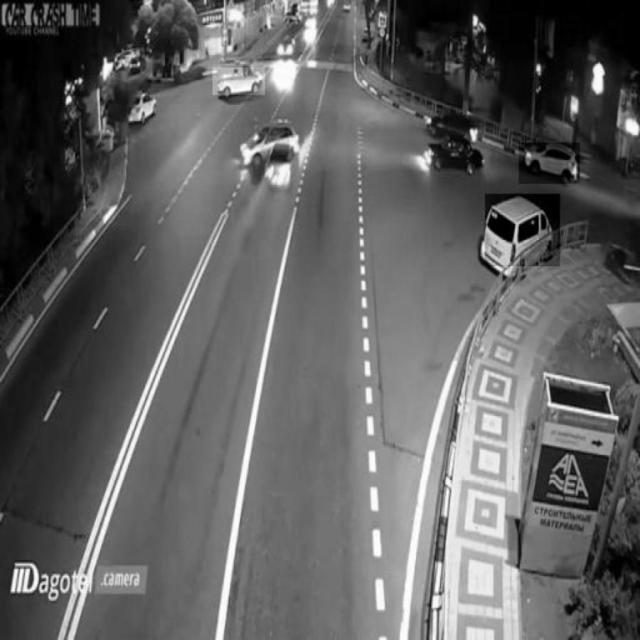accident: (240, 118, 304, 190)
vehicle: (485, 194, 559, 266), (519, 143, 580, 184), (425, 139, 486, 171), (213, 68, 265, 95)
